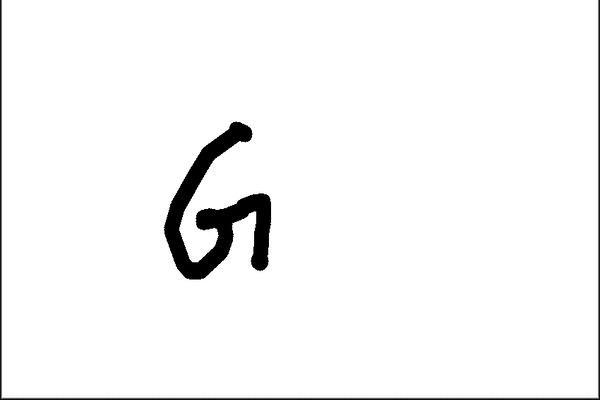G: (159, 117, 275, 282)
